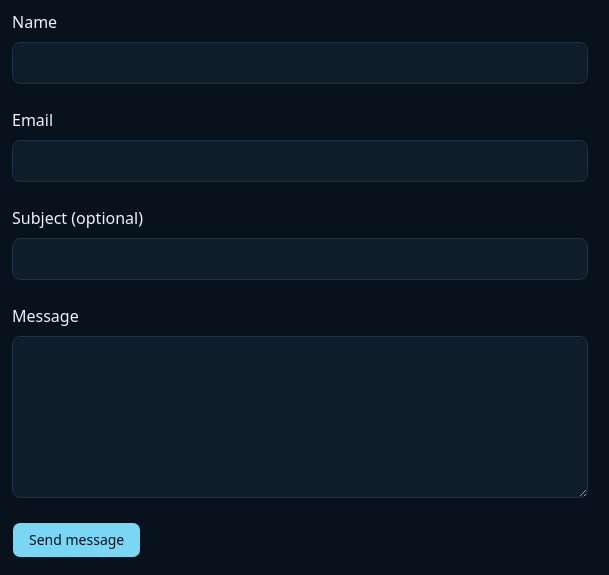
Test case: ContactForm › posts JSON to Web3Forms and confirms
Type "Ada" into the field labelled "Name" at [300, 63], box [12,42,588,84]
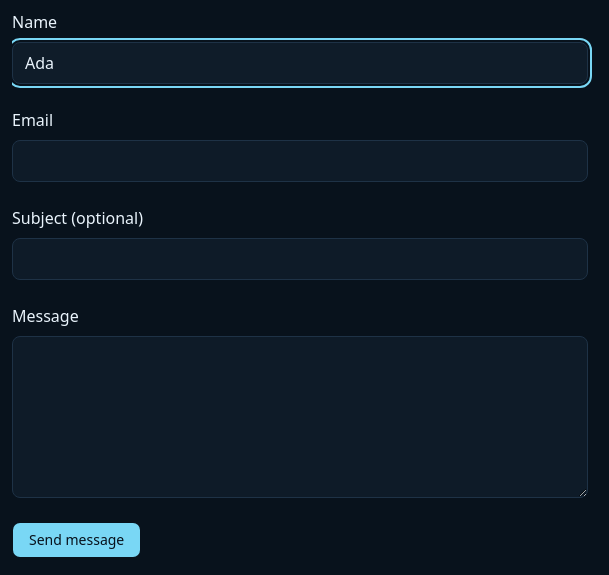
Type "ada@example.com" into the field labelled "Email" at [300, 161], box [12,140,588,182]
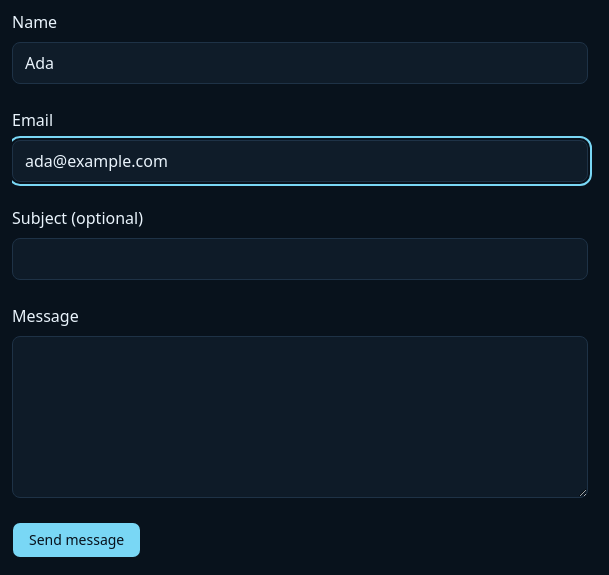
Type "Hello there" into the text box labelled "Message" at [300, 417], box [12,336,588,498]
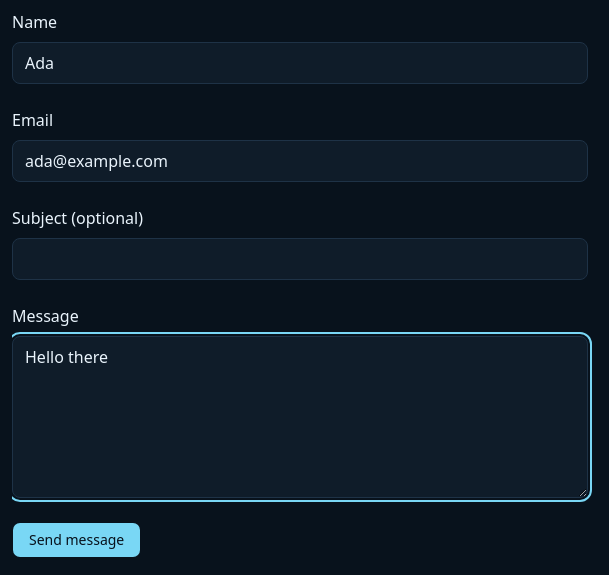
Click the button "Send message" at [77, 540], box [12,522,141,558]
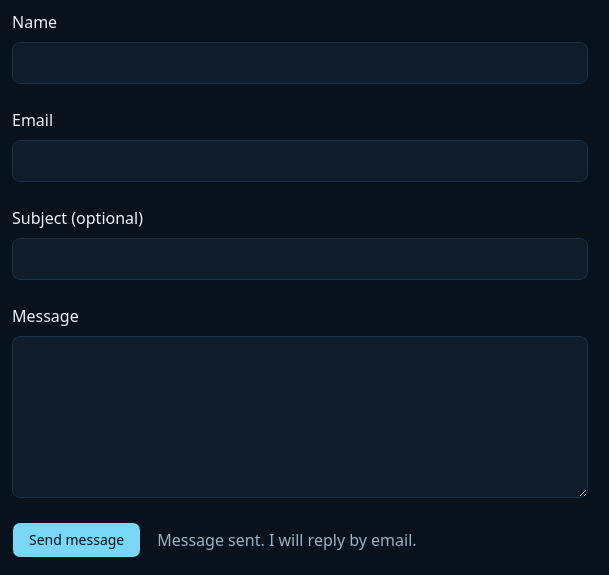
expect the message shows "Message sent": met, box [157,529,417,551]
